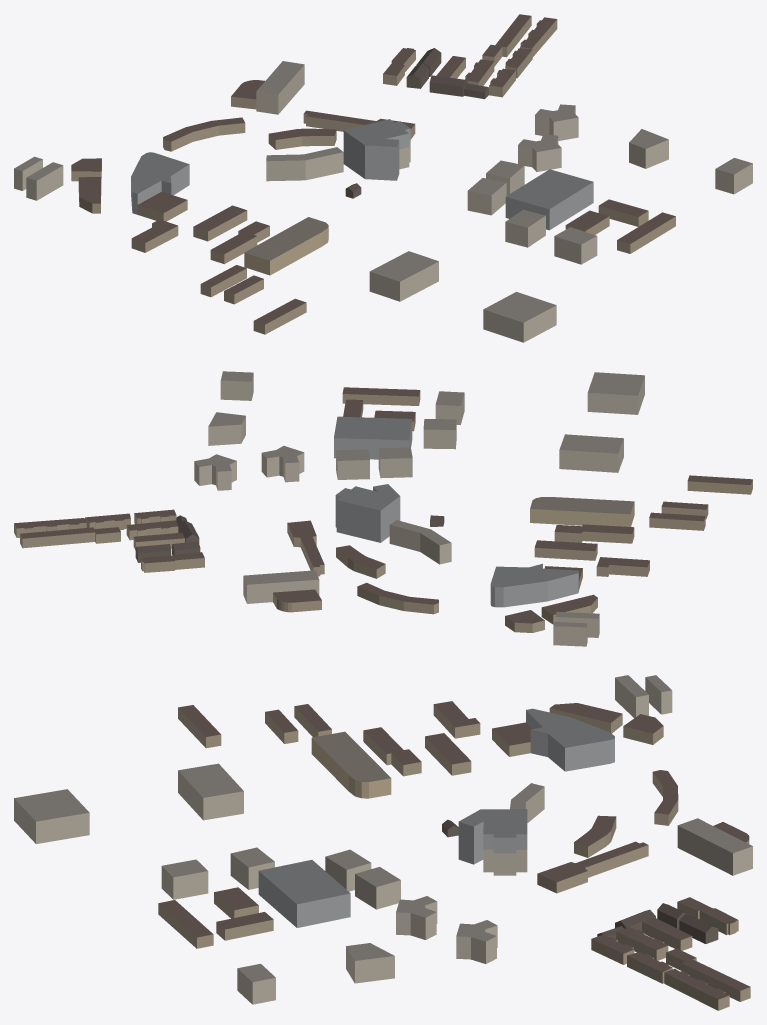
Rendered from tile_6_2.glb.
The picture shows the model from 3 angles, top to bottom: view 1: azimuth 30°, elevation 25°; view 2: azimuth 150°, elevation 25°; view 3: azimuth 270°, elevation 25°; orthographic projection. The views are drawn at different scales.
Visible parts, largest first — view 1: HP-w1287059326, HP-w625690783, HP-w1222186991, HP-w1287059336, HP-w1287059335, HP-r3965945, HP-w1153724039, HP-w1201228815, HP-w1199664104, HP-w1287059333, HP-w1287059329, HP-w1287059334 (+27 smaller); view 2: HP-w625690783, HP-r3965945, HP-w1222186991, HP-w1287059326, HP-w1287059335, HP-w1287059336, HP-w1201228815, HP-w1153724039, HP-w1435266168, HP-w298243638, HP-w1199664104, HP-w1287059333 (+28 smaller); view 3: HP-w1287059326, HP-r3965945, HP-w1287059336, HP-w1222186991, HP-w625690783, HP-w1287059335, HP-w1201228815, HP-w1287059325, HP-w1435266168, HP-w1287059329, HP-w1287059333, HP-w1287059334 (+31 smaller).
Boxes of the visible parts, x1=… form: HP-w1287059326: x1=505, y1=169, x2=593, y2=230; HP-w625690783: x1=343, y1=119, x2=410, y2=180; HP-w1222186991: x1=244, y1=217, x2=328, y2=275; HP-w1287059336: x1=483, y1=292, x2=556, y2=342; HP-w1287059335: x1=369, y1=251, x2=438, y2=301; HP-r3965945: x1=131, y1=152, x2=189, y2=214; HP-w1153724039: x1=266, y1=147, x2=343, y2=181; HP-w1201228815: x1=256, y1=61, x2=304, y2=114; HP-w1199664104: x1=163, y1=117, x2=245, y2=151; HP-w1287059333: x1=518, y1=134, x2=561, y2=171; HP-w1287059329: x1=554, y1=227, x2=597, y2=264; HP-w1287059334: x1=535, y1=104, x2=578, y2=140; HP-w625690783: x1=335, y1=484, x2=400, y2=542; HP-r3965945: x1=490, y1=563, x2=578, y2=607; HP-w1222186991: x1=530, y1=497, x2=634, y2=526; HP-w1287059326: x1=334, y1=416, x2=412, y2=459; HP-w1287059335: x1=559, y1=434, x2=623, y2=472; HP-w1287059336: x1=587, y1=372, x2=644, y2=414; HP-w1201228815: x1=243, y1=570, x2=319, y2=603; HP-w1153724039: x1=389, y1=520, x2=451, y2=564; HP-w1435266168: x1=20, y1=527, x2=120, y2=548; HP-w298243638: x1=554, y1=524, x2=634, y2=543; HP-w1199664104: x1=357, y1=582, x2=438, y2=614; HP-w1287059333: x1=261, y1=446, x2=304, y2=482; HP-w1287059326: x1=258, y1=860, x2=350, y2=927; HP-r3965945: x1=526, y1=708, x2=614, y2=771; HP-w1287059336: x1=14, y1=789, x2=89, y2=843; HP-w1222186991: x1=311, y1=731, x2=391, y2=798; HP-w625690783: x1=458, y1=809, x2=527, y2=864; HP-w1287059335: x1=178, y1=763, x2=243, y2=820; HP-w1201228815: x1=677, y1=818, x2=752, y2=875; HP-w1287059325: x1=346, y1=943, x2=394, y2=983; HP-w1435266168: x1=666, y1=948, x2=750, y2=1001; HP-w1287059329: x1=161, y1=859, x2=208, y2=899; HP-w1287059333: x1=396, y1=896, x2=437, y2=939; HP-w1287059334: x1=456, y1=920, x2=497, y2=963.
Size of the model in its own units: 538 by 30.4 by 536.
